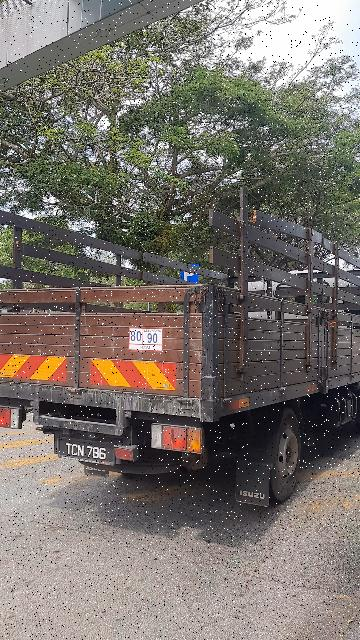License_Plate: (54, 437, 119, 467)
lorry: (1, 202, 360, 515)
